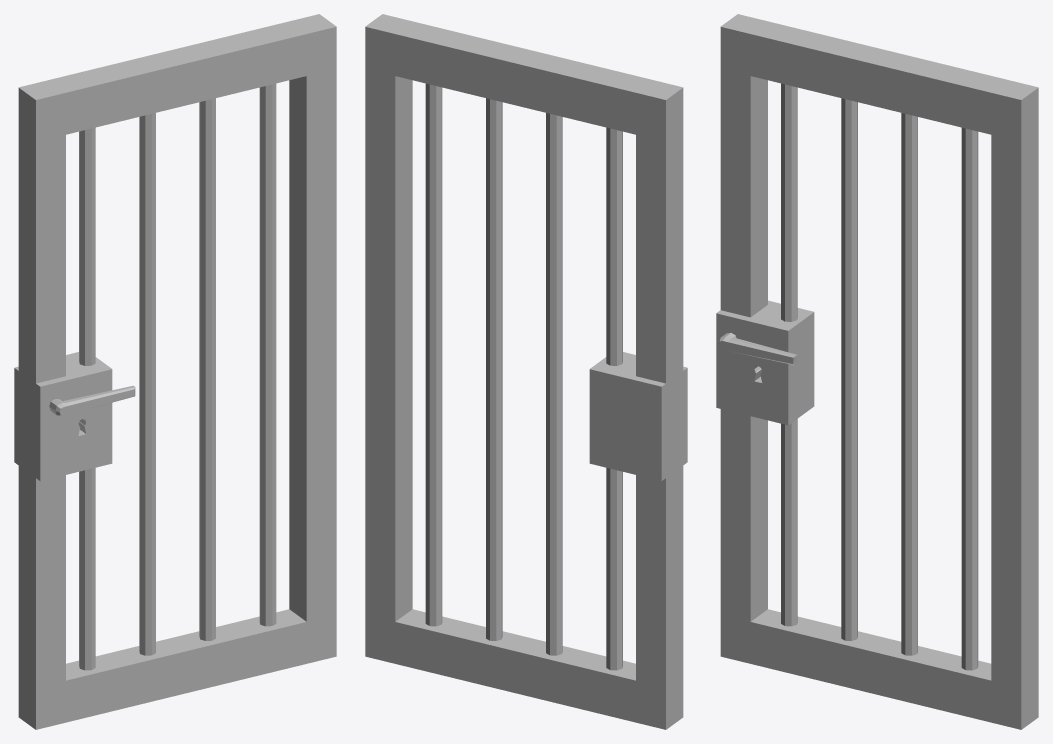
The model's file is door_iron.gltf.
3 views of the same model, side by side, from view 1: azimuth 30°, elevation 25°; view 2: azimuth 150°, elevation 25°; view 3: azimuth 330°, elevation 25° (orthographic).
Visible parts, largest first — view 1: Cube; view 2: Cube; view 3: Cube.
Part boxes in pixels (left/top/right/bottom): Cube: left=14, top=14, right=336, bottom=729; Cube: left=365, top=14, right=687, bottom=729; Cube: left=716, top=14, right=1038, bottom=729.
Size of the model in its own units: 1 by 2 by 0.1992.
1 material, 1 textured.
